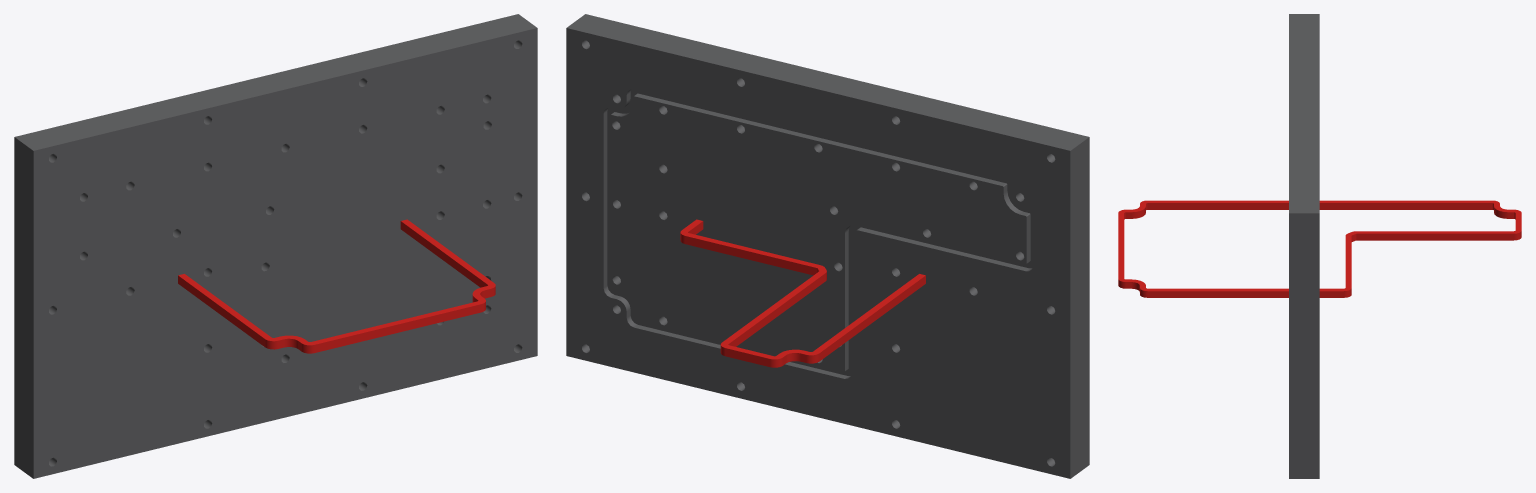
The model's file is leak-test-gasket-mold.glb.
3 views of the same model, side by side, from view 1: azimuth 30°, elevation 25°; view 2: azimuth 150°, elevation 25°; view 3: azimuth 270°, elevation 25° (orthographic). The views are drawn at different scales.
Size of the model in its own units: 0.194 by 0.1206 by 0.166.
